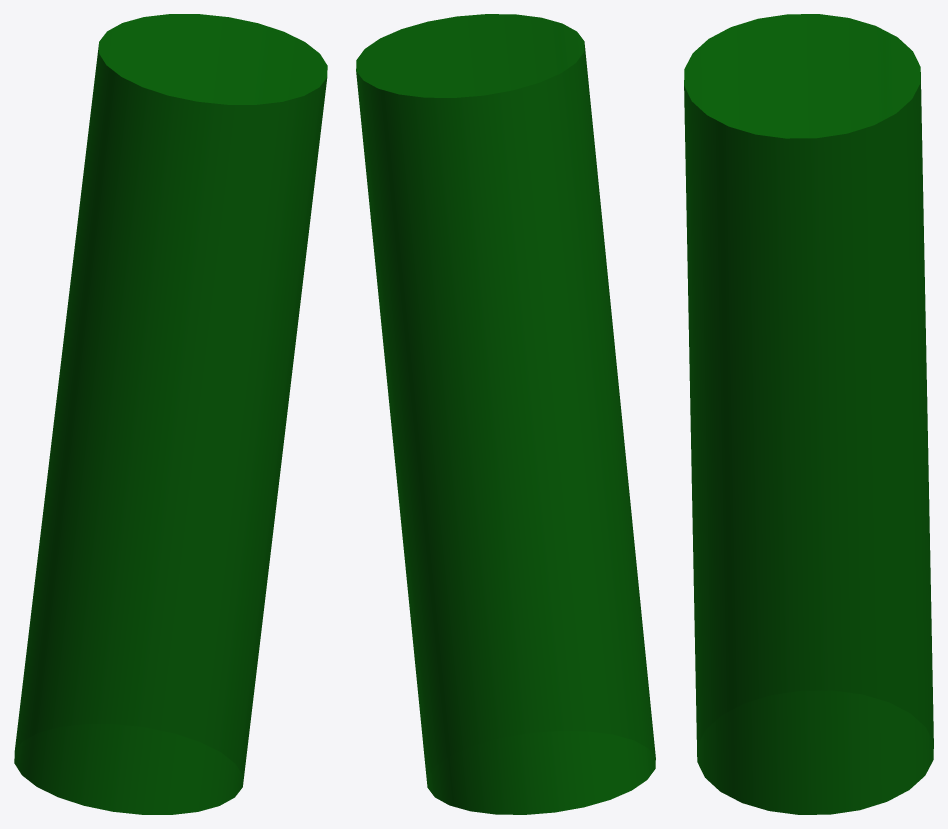
File: Event_421364160_jet_2.fbx
3 renders of one model, left to right at view 1: azimuth 30°, elevation 25°; view 2: azimuth 150°, elevation 25°; view 3: azimuth 270°, elevation 25°, orthographic. The views are drawn at different scales.
Parts seen in each view (by area): view 1: Model; view 2: Model; view 3: Model.
Part boxes in pixels (x1,y1,x2,y2): Model: [14, 14, 327, 814]; Model: [356, 14, 655, 814]; Model: [684, 14, 933, 814].
Bounding box in the file's own units: 0.055 × 0.1372 × 0.0419.
